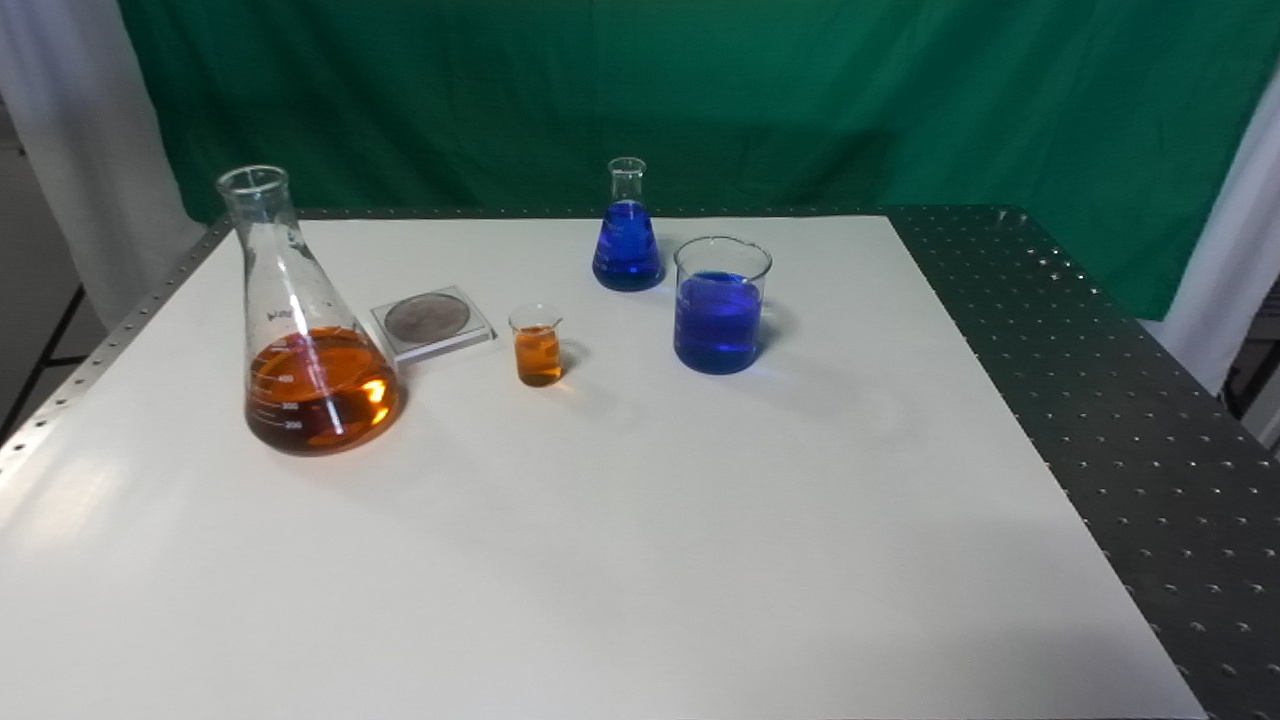glass: (213, 162, 403, 460), (668, 232, 776, 377), (590, 153, 668, 296), (504, 300, 566, 391)
plate: (364, 281, 499, 371)
